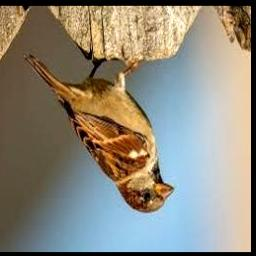Sparrow: (25, 55, 175, 213)
